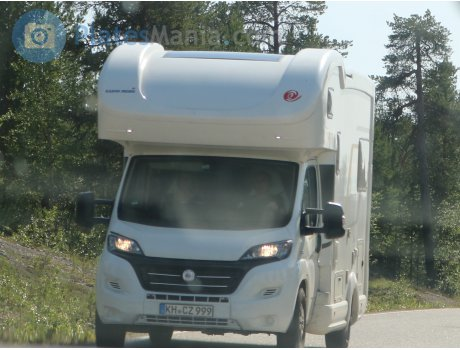License Plates: (167, 299, 213, 314)
